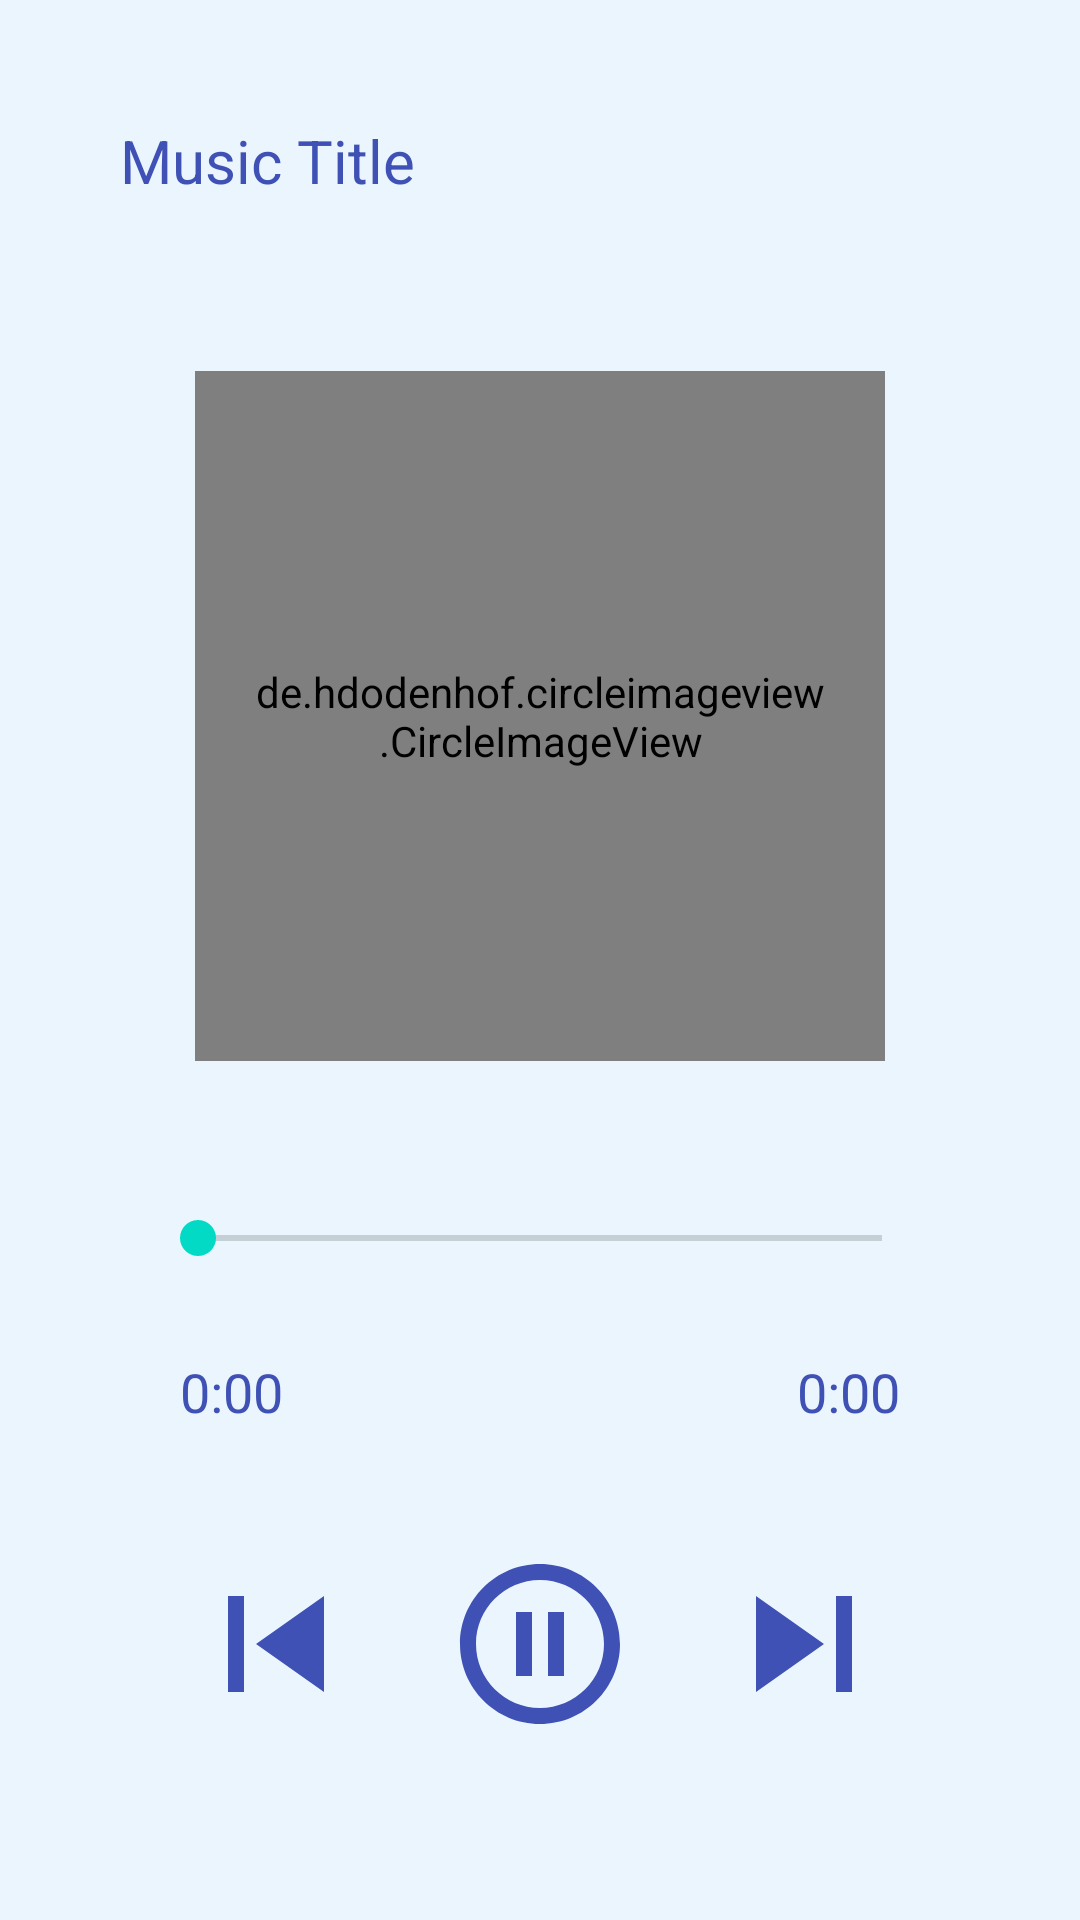

Locate icon controls on the screen. Image size 1080*1920, boxes as (x1, y1, x2, y2).
pause circle: (460, 1564, 620, 1724)
skip next: (756, 1596, 852, 1692)
skip previous: (228, 1596, 324, 1692)
